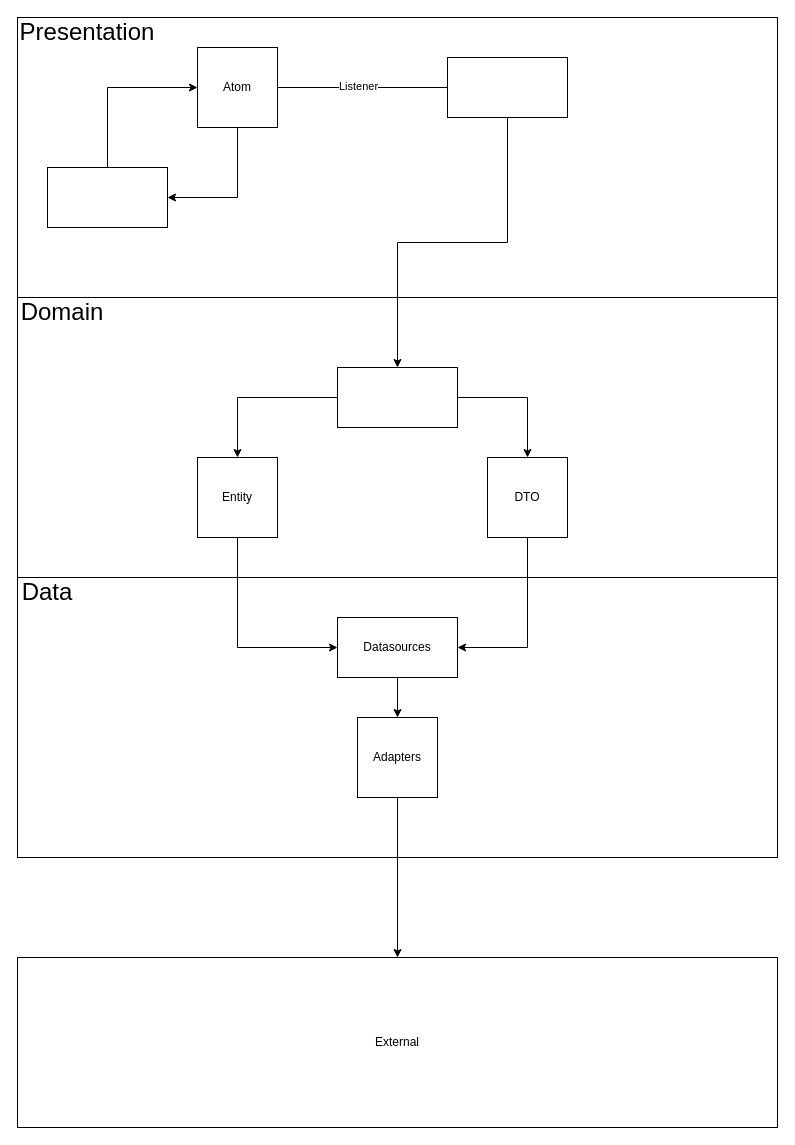
Image size: 795x1145. Some labels were removed from this diagram. Each missing label, with the centre of its shape:
"Pages/Widgets" goes at point (107, 197).
"Reducer" goes at point (507, 87).
"Usecases" goes at point (397, 397).
